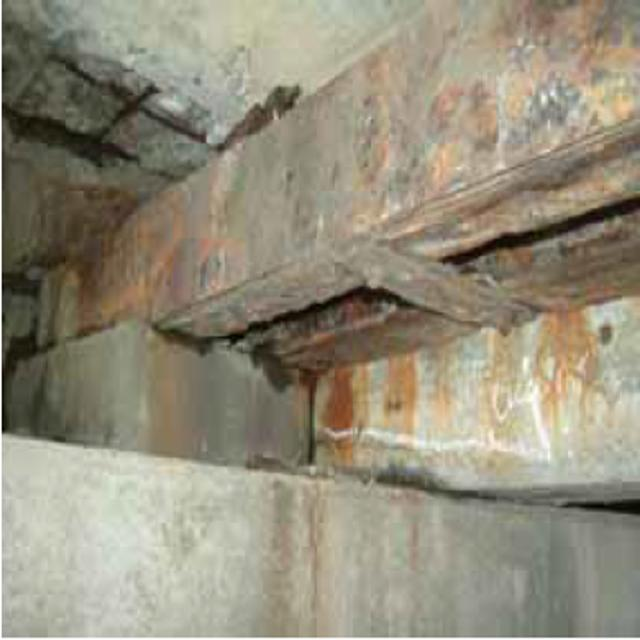spalling: (203, 256, 607, 417), (12, 8, 242, 235)
